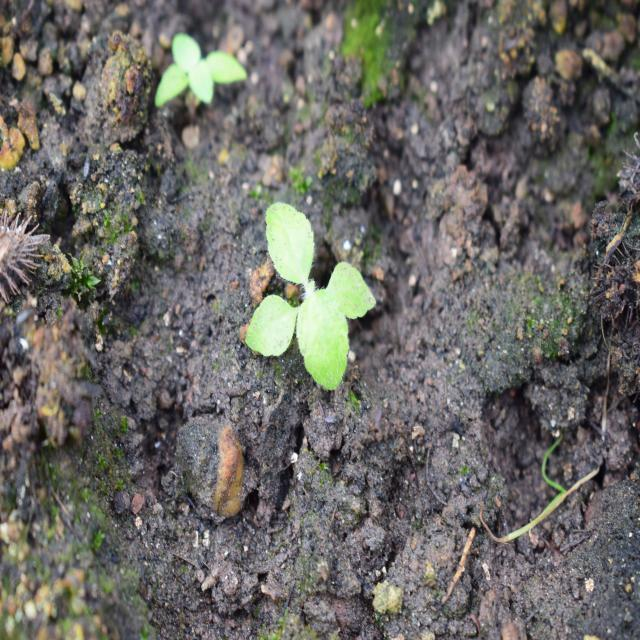billygoat_weed: (259, 205, 366, 382)
